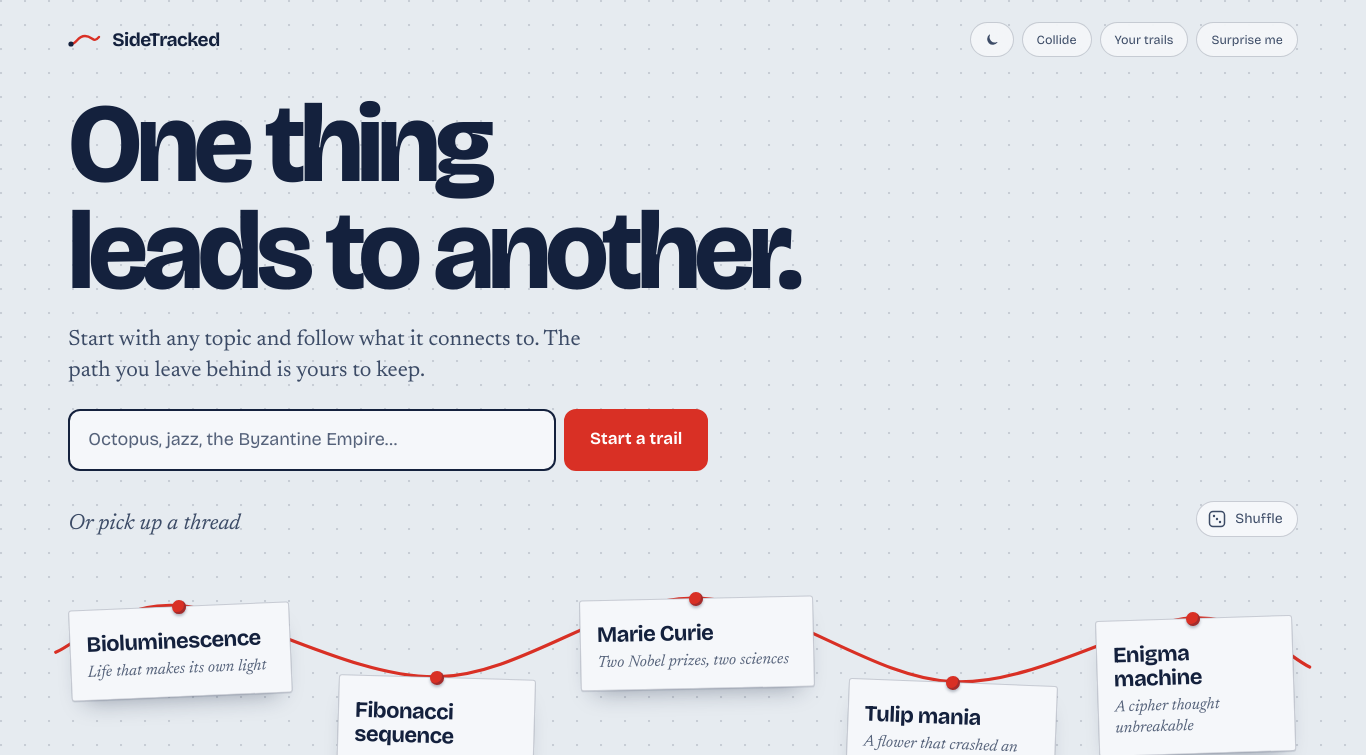
Test case: Ctrl K opens the command bar and Enter jumps to the highlighted topic
Type keys "{Control>}k{/Control}"
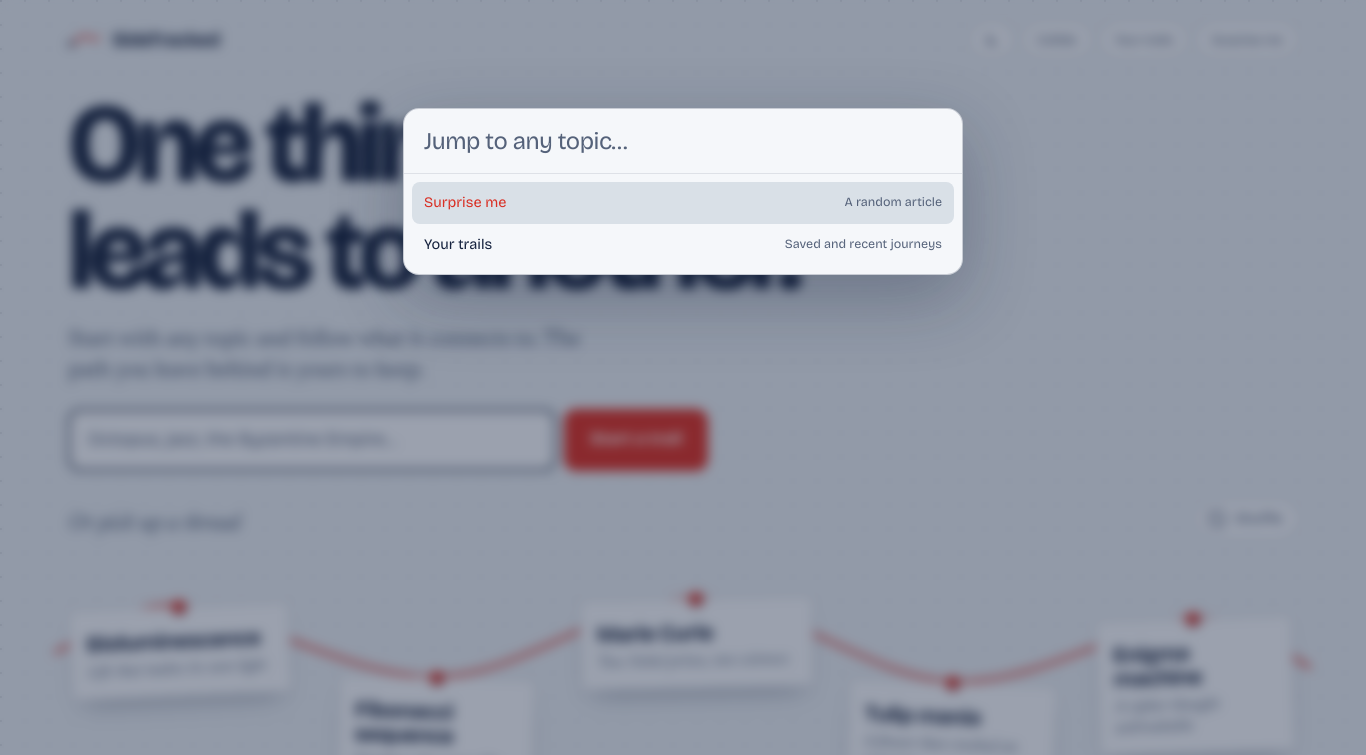
Type "squ" into the dropdown.
click(683, 141); type("squ")  # box [404,108,962,174]
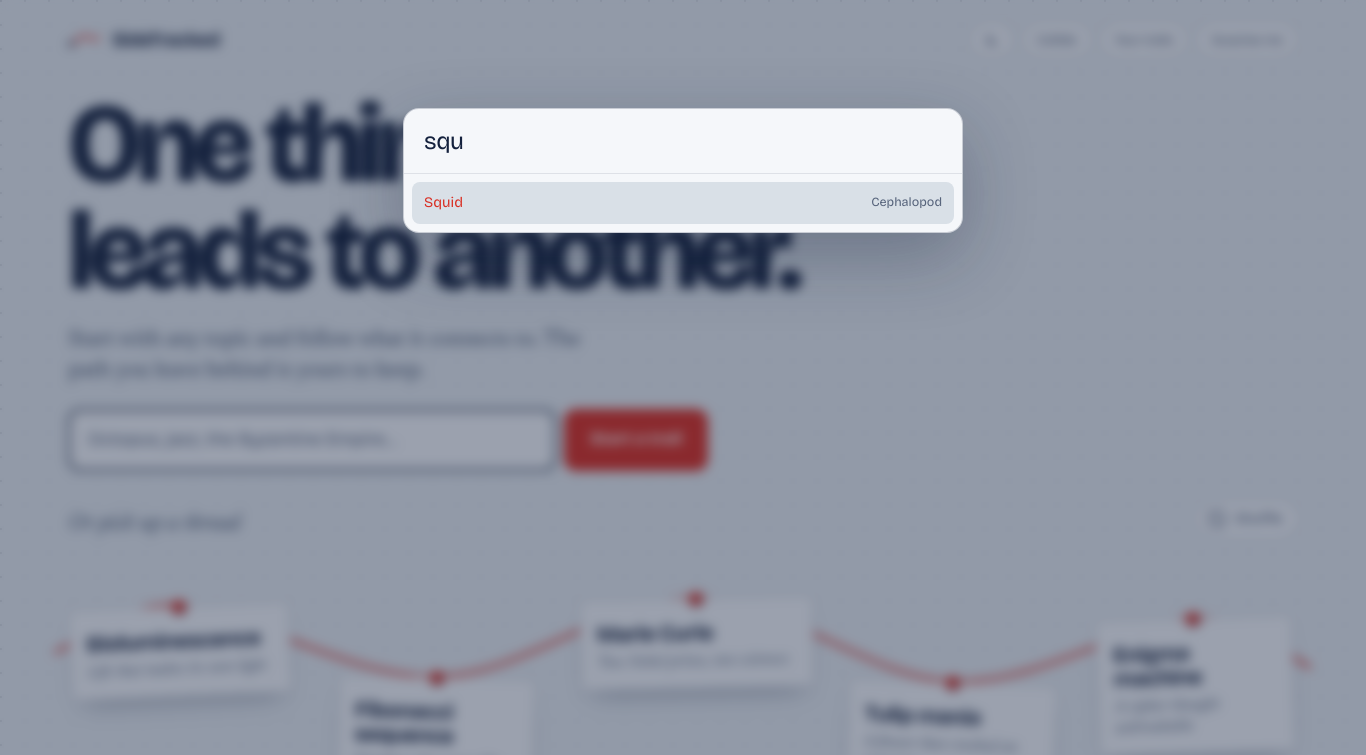
Result: the option "Squid Cephalopod" is shown at [412,182,954,224]
Press Enter
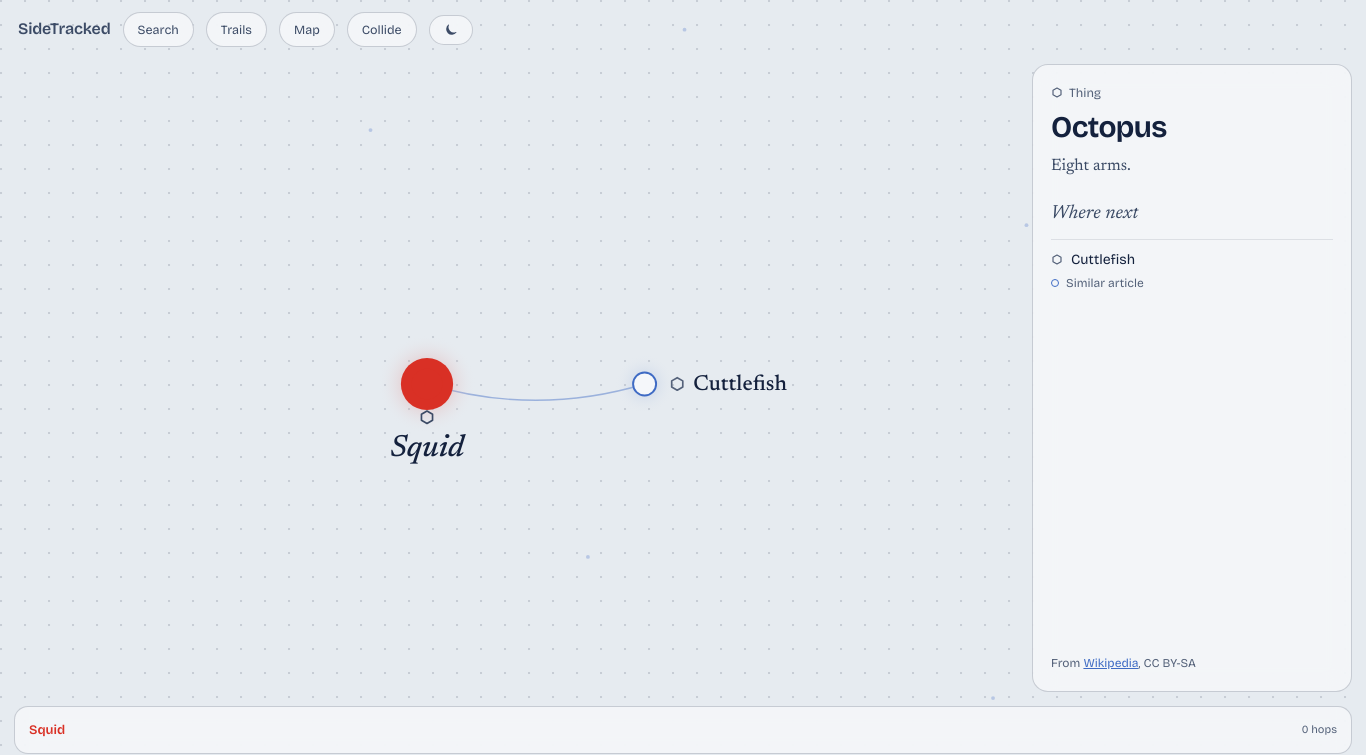
Result: the dialog is gone
